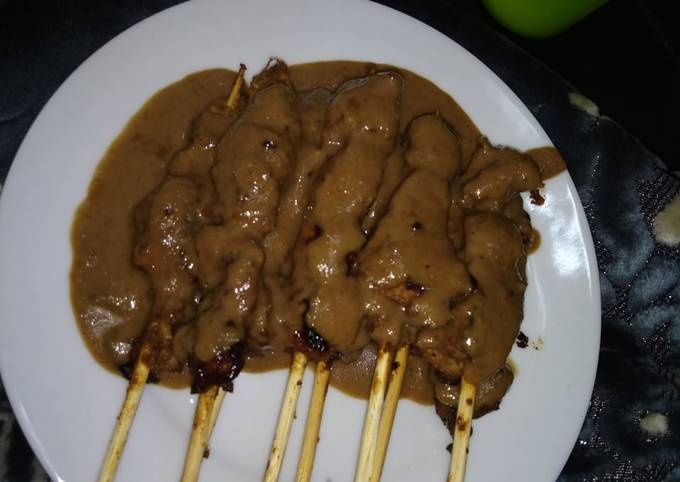sate_madura: (77, 63, 528, 482)
